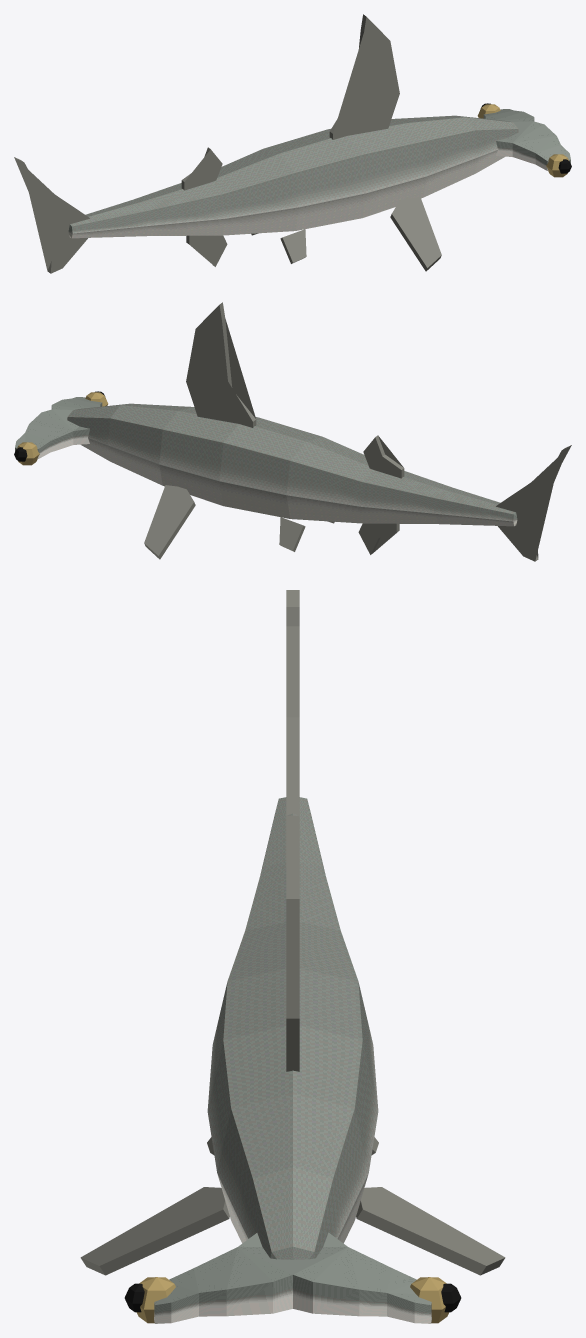
File: hammerhead.glb
3 renders of one model, top to bottom at view 1: azimuth 30°, elevation 25°; view 2: azimuth 150°, elevation 25°; view 3: azimuth 270°, elevation 25°, orthographic. The views are drawn at different scales.
Parts seen in each view (by area): view 1: Fish_hammerhead; view 2: Fish_hammerhead; view 3: Fish_hammerhead.
Boxes of the visible parts, box(x1,y1,x2,y2) form: Fish_hammerhead: box(14, 14, 571, 273); Fish_hammerhead: box(14, 302, 571, 561); Fish_hammerhead: box(80, 590, 505, 1323).
Bounding box in the file's own units: 1.1 × 0.4416 × 0.3849.
Materials: 4 (1 with a texture image).
